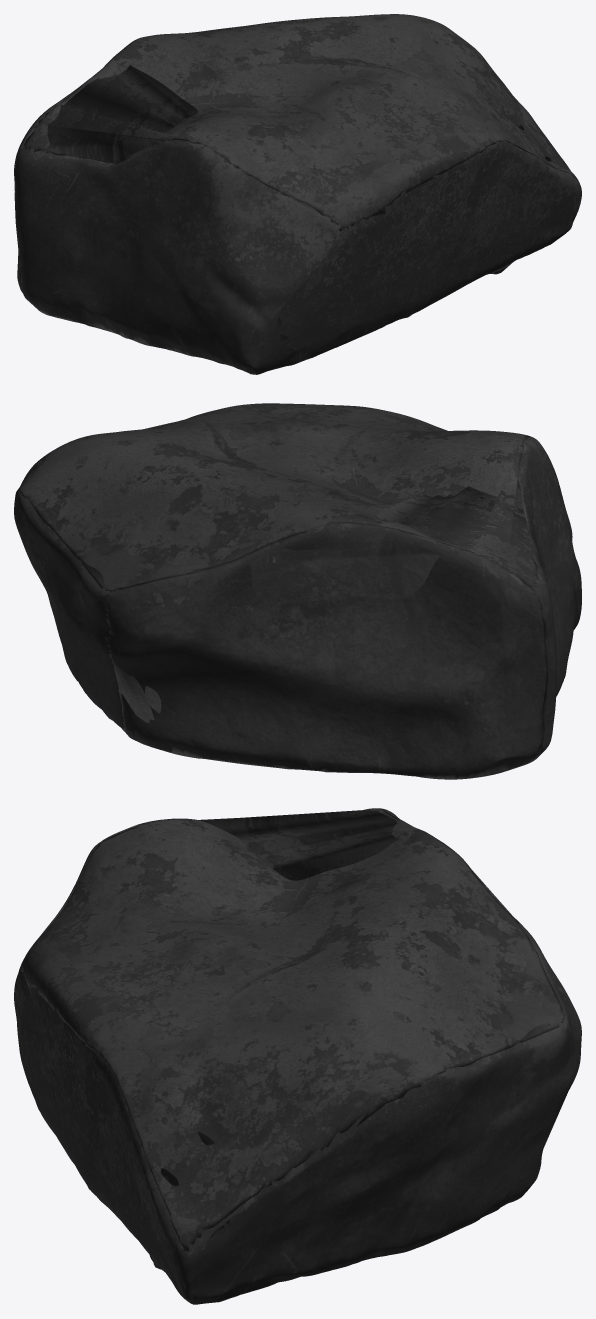
Rendered from hero-high.glb.
3 renders of one model, top to bottom at view 1: azimuth 30°, elevation 25°; view 2: azimuth 150°, elevation 25°; view 3: azimuth 270°, elevation 25°, orthographic. The views are drawn at different scales.
Parts seen in each view (by area): view 1: Mineral_01_Basalt_Photoscan_C_LOD1; view 2: Mineral_01_Basalt_Photoscan_C_LOD1; view 3: Mineral_01_Basalt_Photoscan_C_LOD1.
Boxes of the visible parts, left/top/right/bottom form: Mineral_01_Basalt_Photoscan_C_LOD1: left=14, top=14, right=581, bottom=374; Mineral_01_Basalt_Photoscan_C_LOD1: left=14, top=403, right=581, bottom=779; Mineral_01_Basalt_Photoscan_C_LOD1: left=14, top=808, right=581, bottom=1304.
Bounding box in the file's own units: 1.97 × 0.7906 × 1.53.
Materials: 1 (1 with a texture image).
